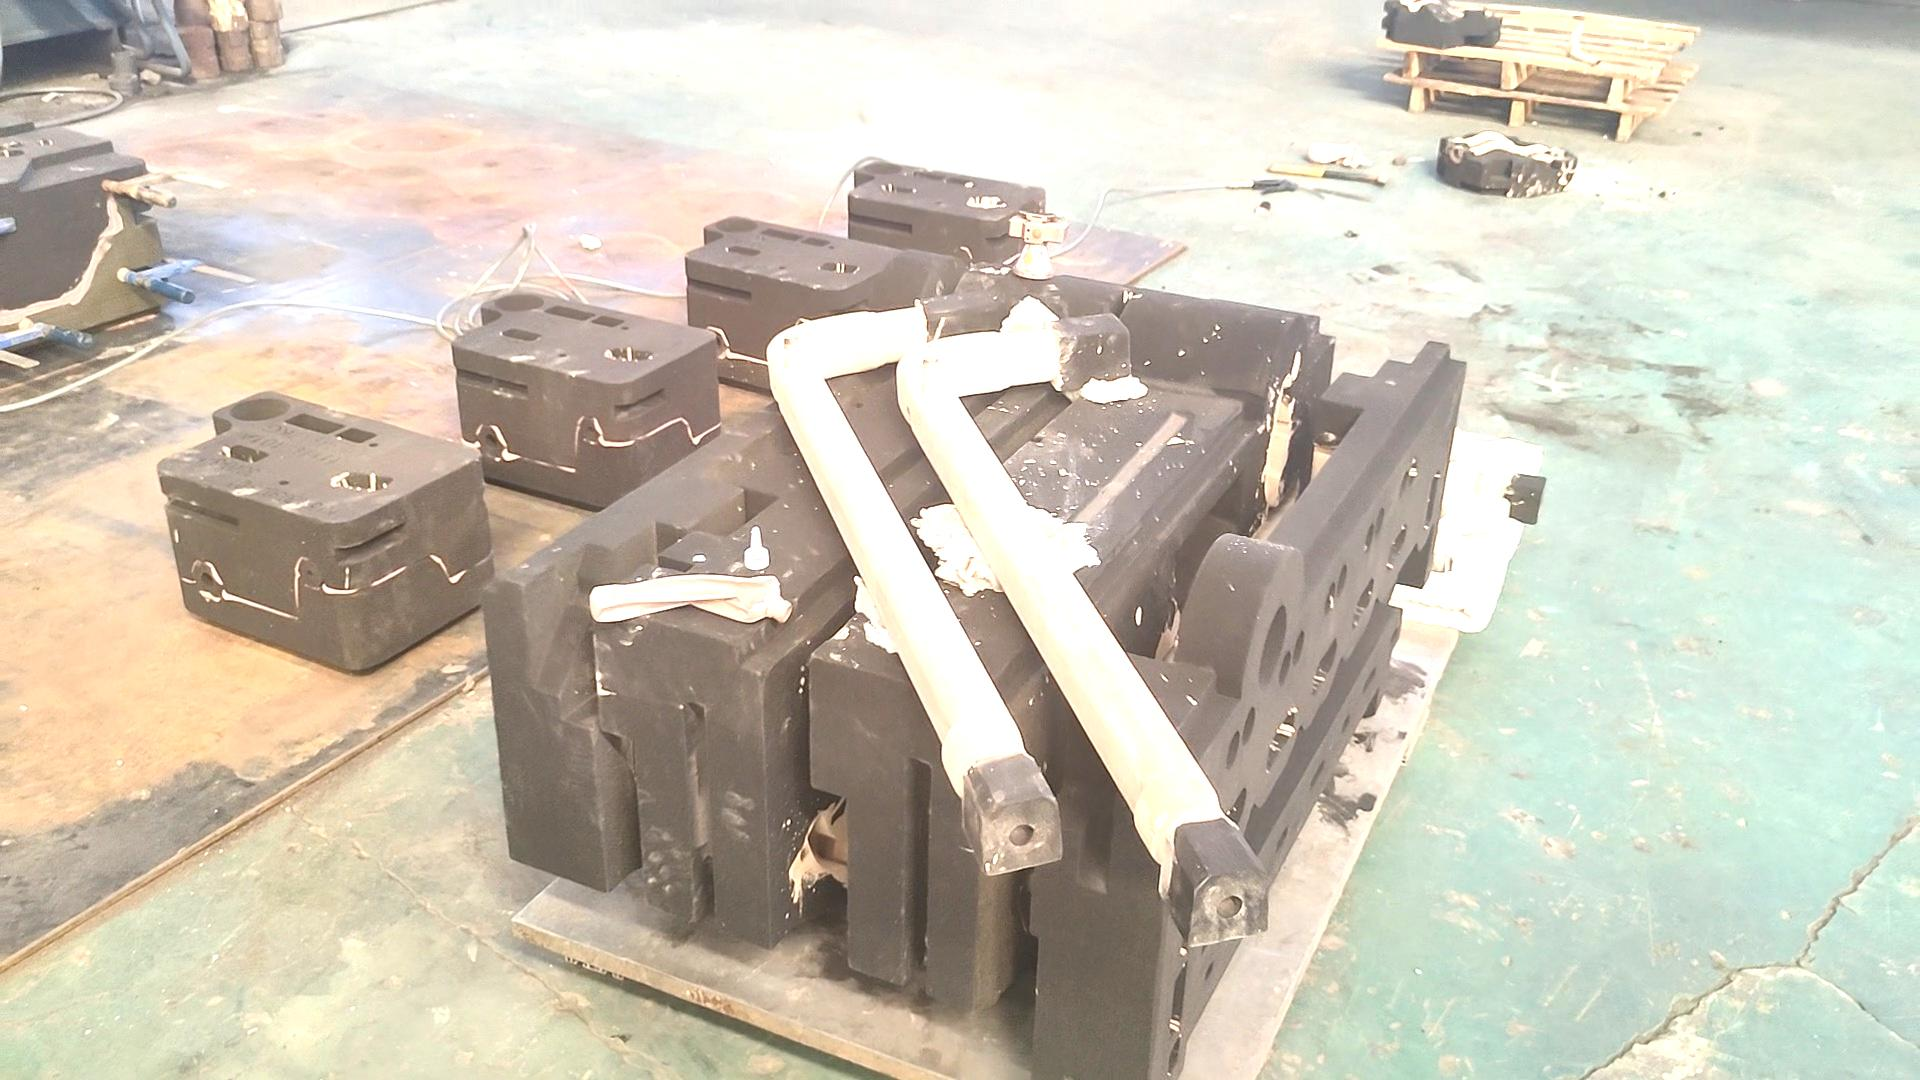pouring hole: (1259, 603, 1288, 690), (229, 398, 290, 419), (495, 295, 545, 311), (715, 218, 760, 232), (862, 160, 903, 175)
